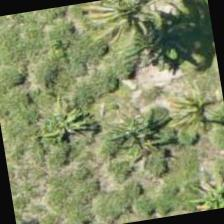Kelapa_Sawit: (146, 69, 223, 170), (83, 0, 182, 63)
